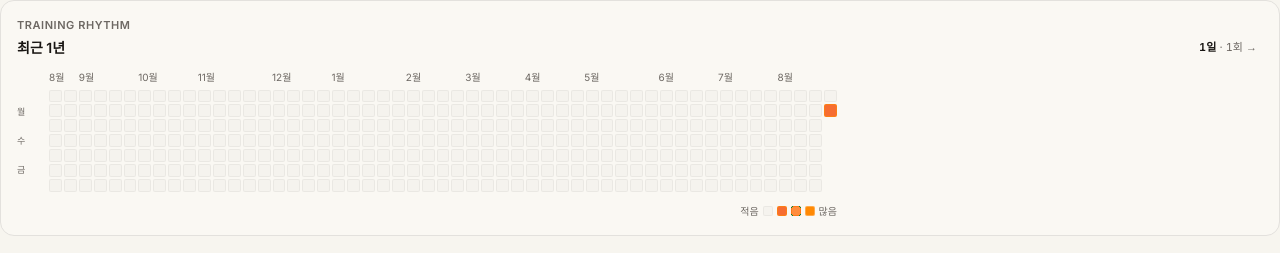
Scenario: TrainingHeatmap 툴팁 내용 › 기록 없는 날은 그렇게 말한다
The width and height of the screenshot is (1280, 253).
Hover over the button titled "2026-08-10 · 0회": (816, 111) [809,104,822,117]
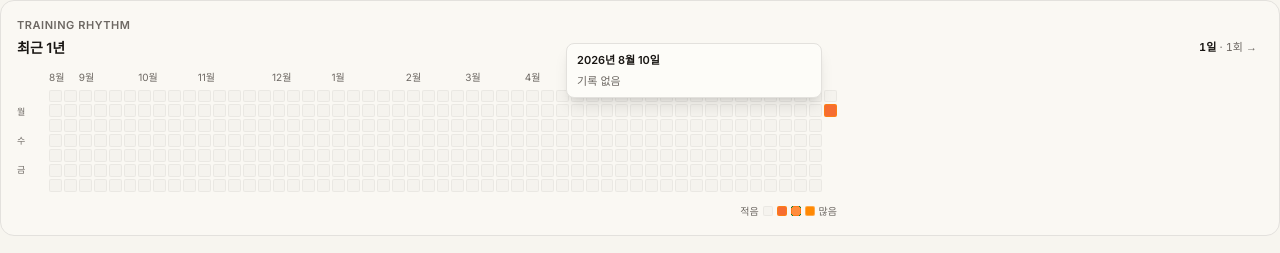
Expected: the tooltip shows "기록 없음", [577,74,621,88]
